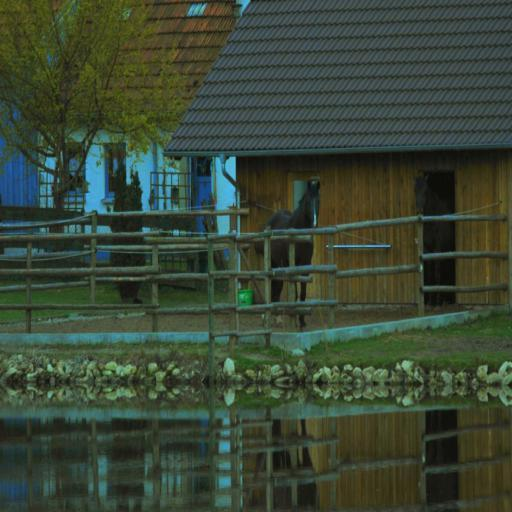horse: (265, 176, 322, 334)
